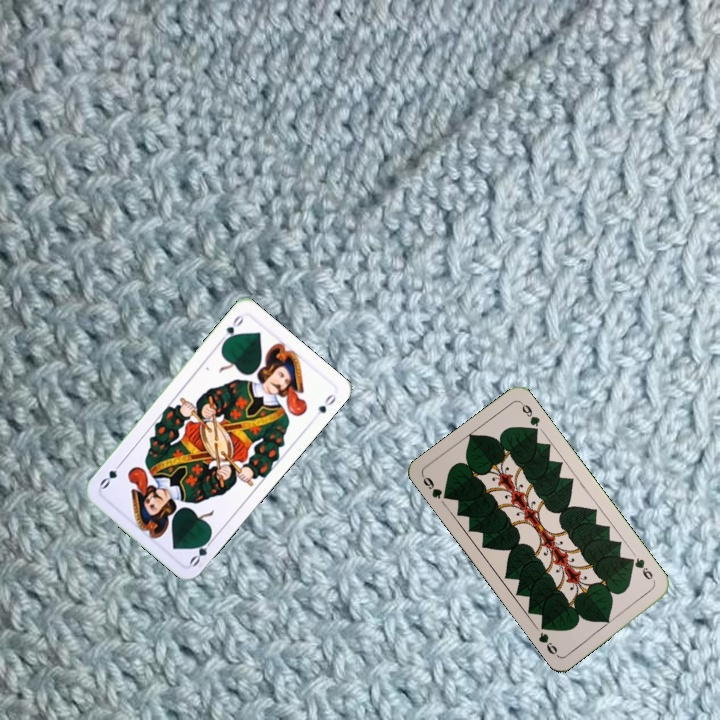G9: (625, 553, 658, 586), (419, 472, 453, 502)
GO: (186, 532, 217, 569), (215, 311, 246, 347)
